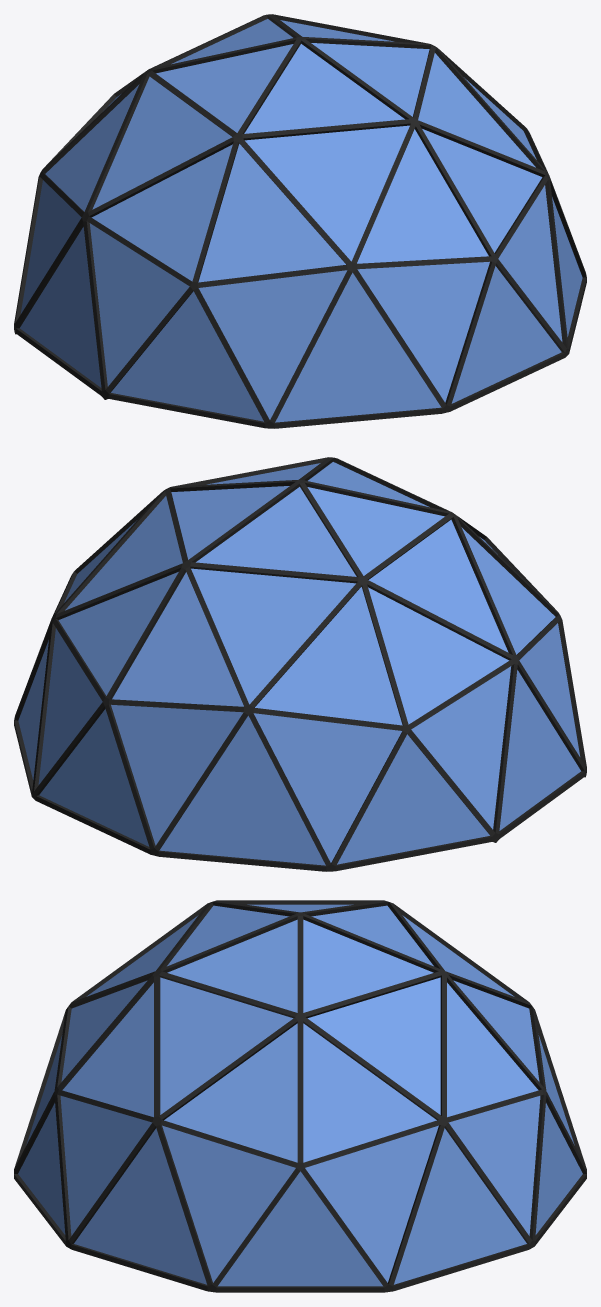
Rendered from geodesic dome.dae.
3 views of the same model, one above another, from view 1: azimuth 30°, elevation 25°; view 2: azimuth 150°, elevation 25°; view 3: azimuth 270°, elevation 25° (orthographic).
Parts seen in each view (by area): view 1: Dome; view 2: Dome; view 3: Dome.
Boxes of the visible parts, x1,y1,x2,y2 form: Dome: [14, 14, 586, 428]; Dome: [14, 457, 586, 871]; Dome: [14, 900, 586, 1292].
Bounding box in the file's own units: 37.99 × 39.73 × 20.28.
